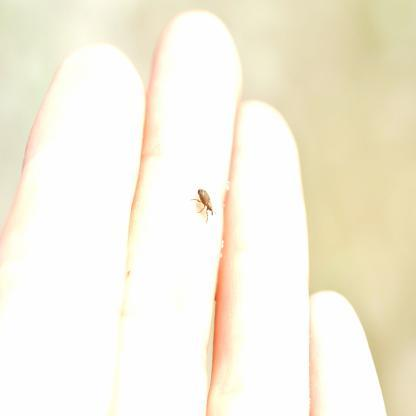rice-bug: (194, 184, 217, 220)
